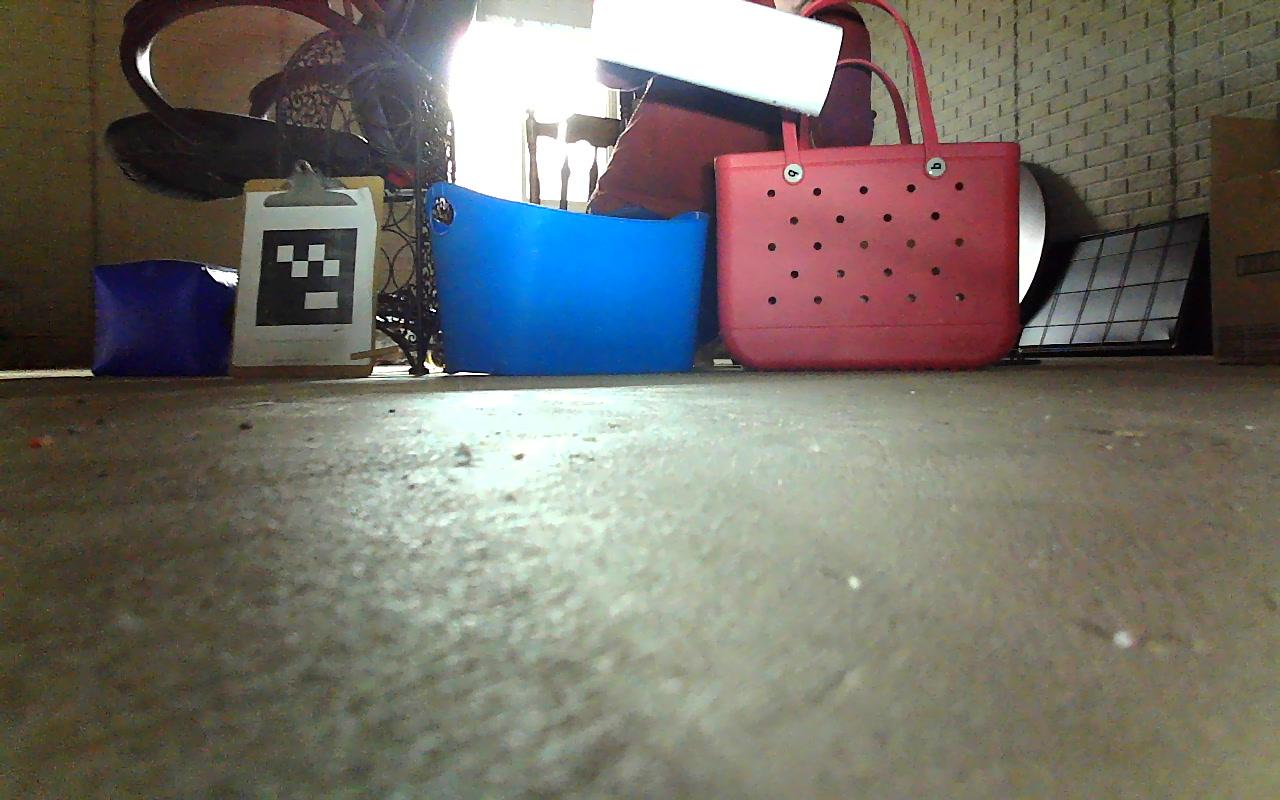coral: (588, 0, 844, 117)
